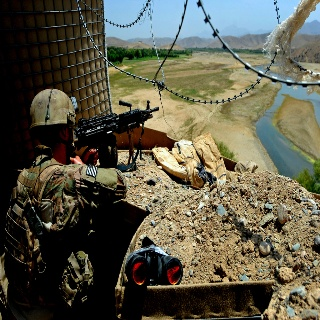shotgun: (68, 98, 161, 164)
